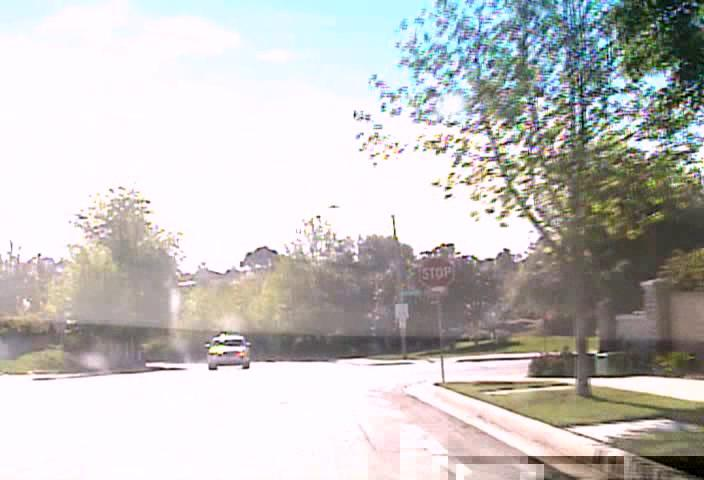stop: (418, 256, 453, 288)
